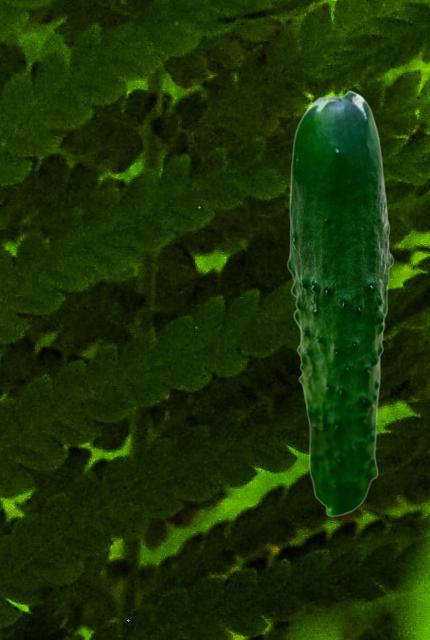cucumber: (286, 90, 393, 516)
